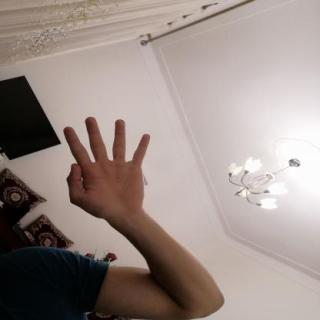SHEEN: (52, 111, 158, 222)
